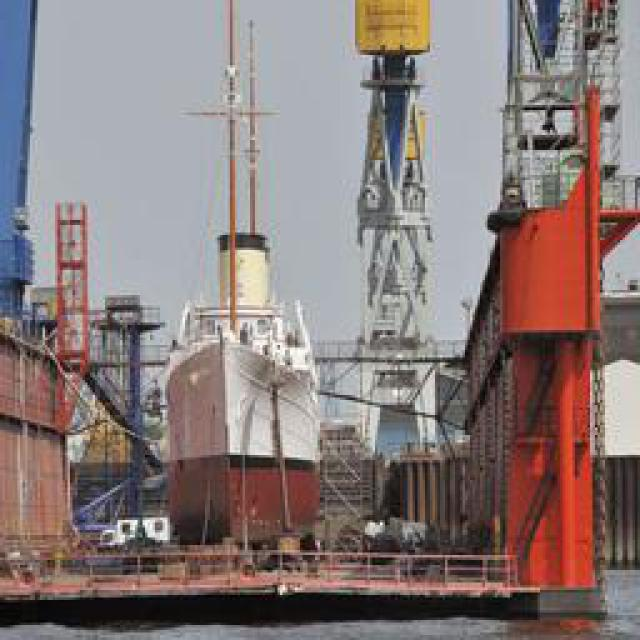Ship: (164, 316, 327, 566)
